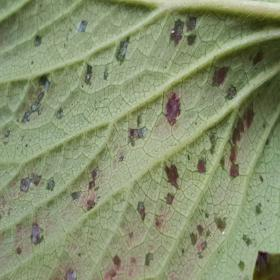Angular Leafspot: (0, 6, 279, 279)
